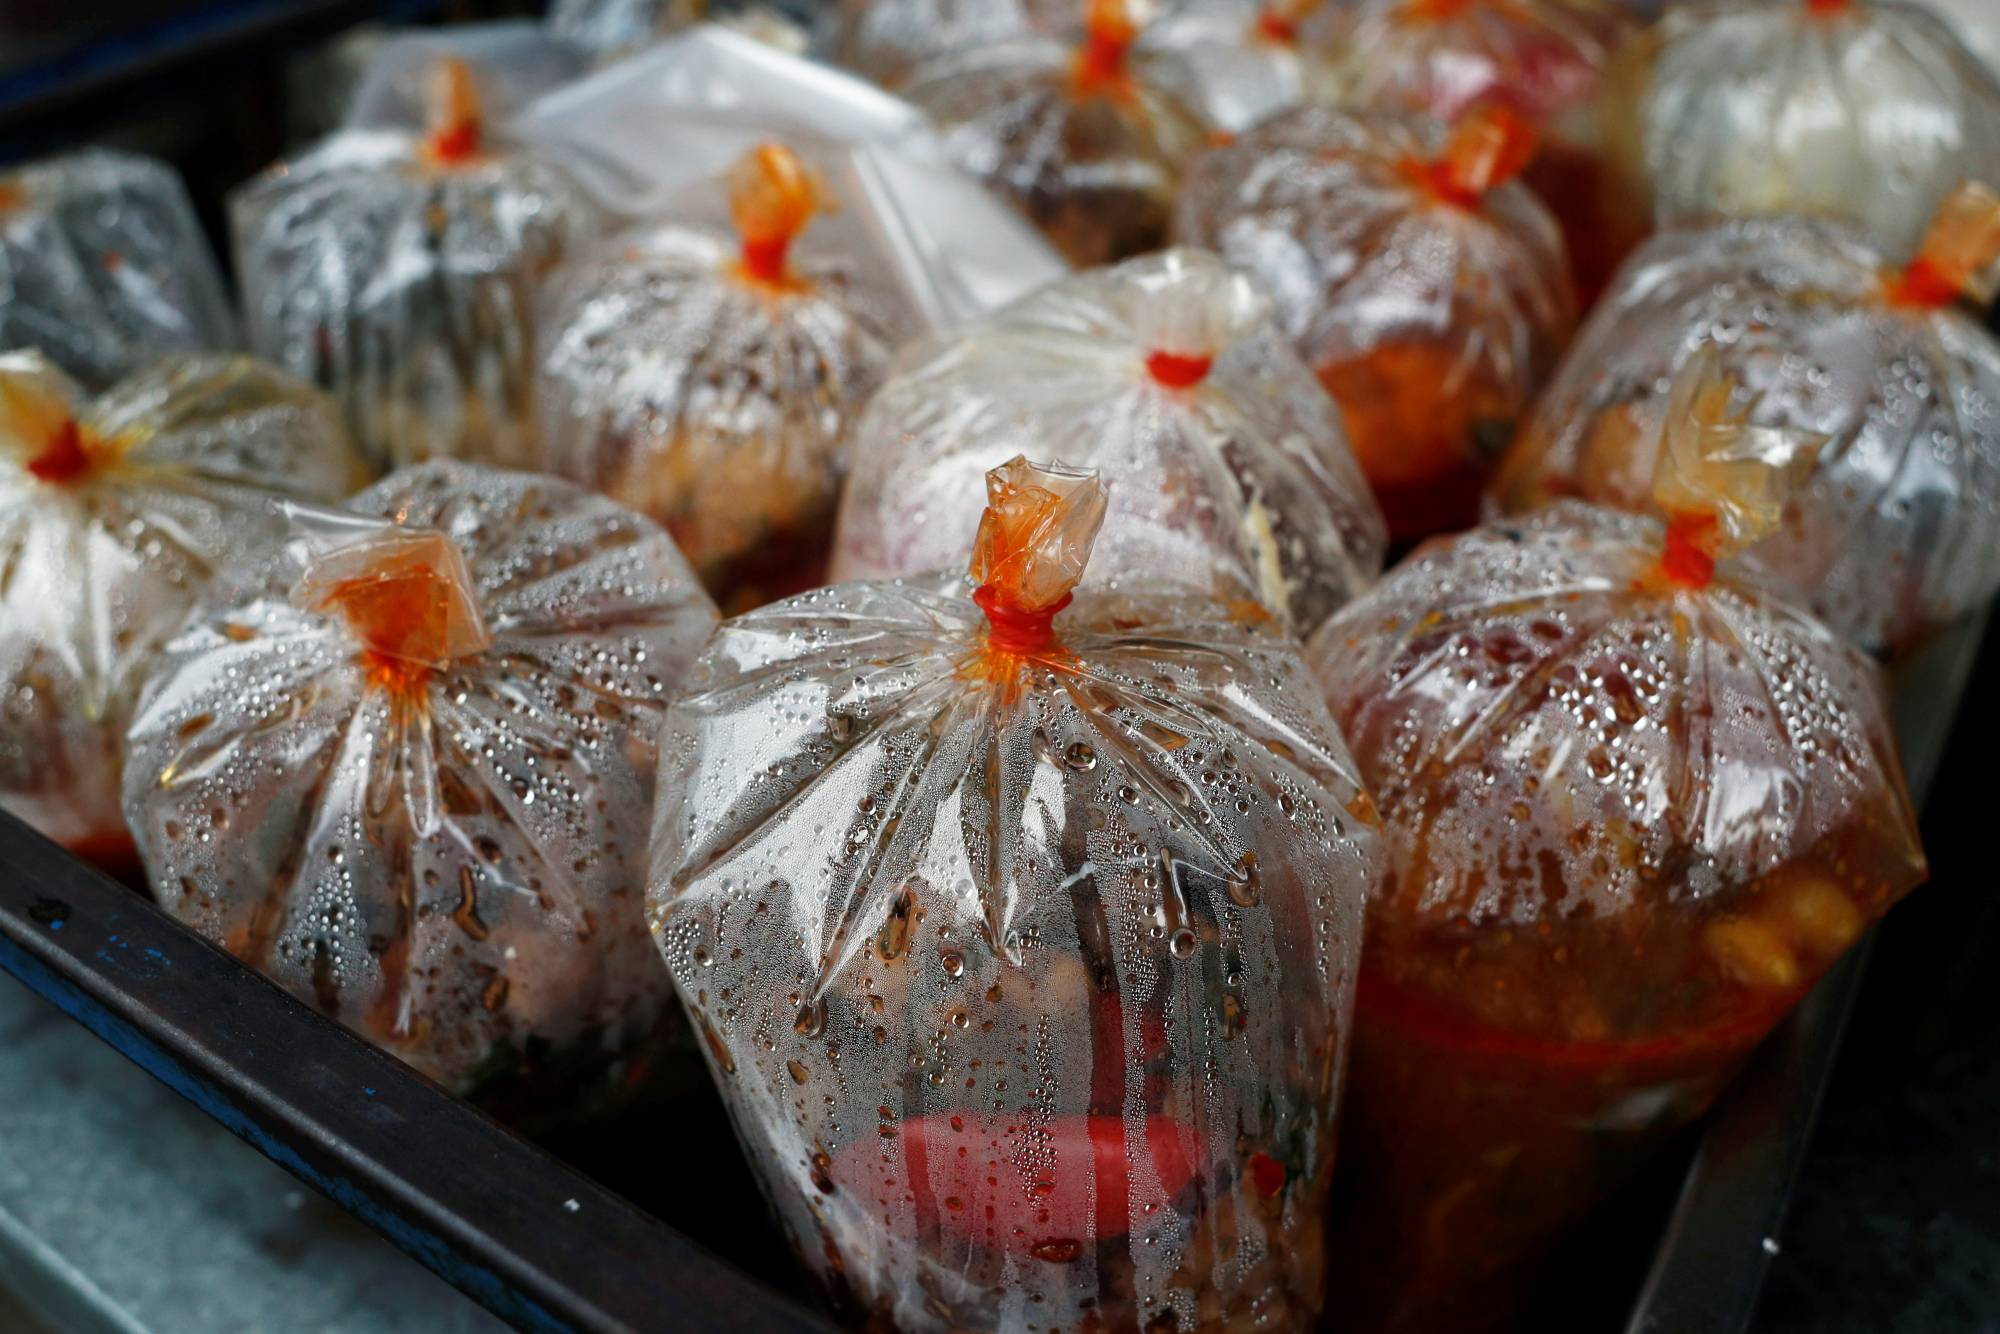plastic_bagwdw: (604, 438, 1472, 1334), (1262, 320, 1940, 1291), (86, 384, 778, 1245), (836, 116, 1437, 1059), (9, 264, 460, 1033), (513, 48, 949, 802), (1487, 83, 2000, 715), (1174, 28, 1647, 624), (177, 19, 615, 655), (1542, 1, 1996, 383), (7, 107, 308, 496)
